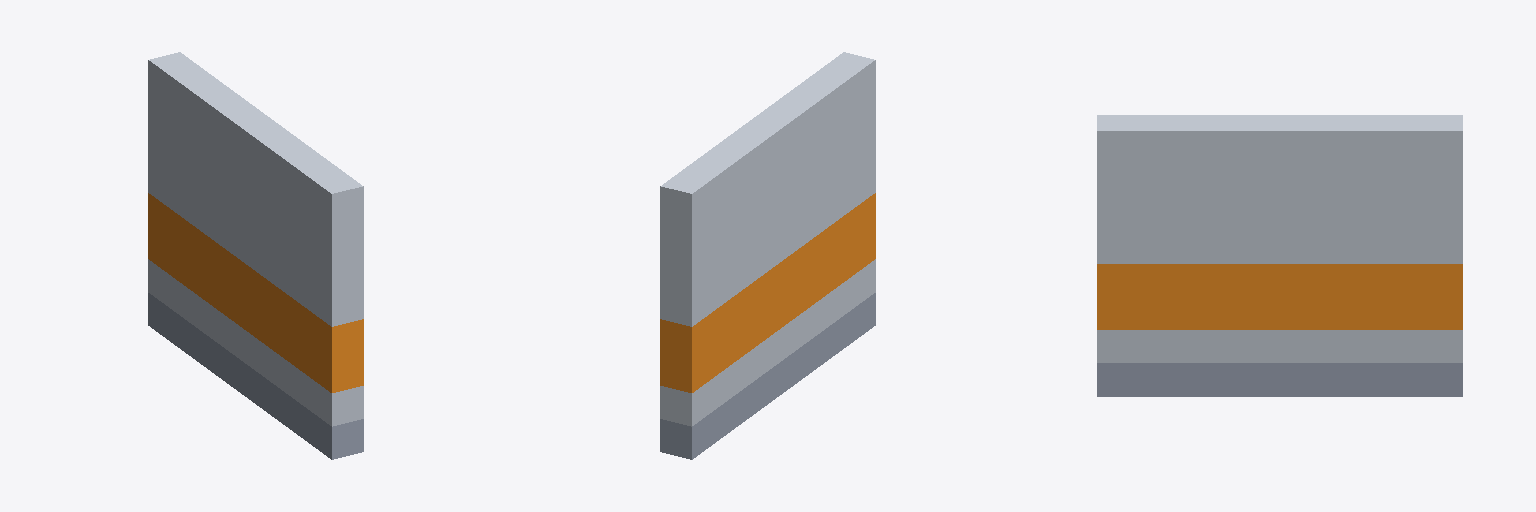
File: corridor_wall.obj
3 views of the same model, side by side, from view 1: azimuth 30°, elevation 25°; view 2: azimuth 150°, elevation 25°; view 3: azimuth 270°, elevation 25° (orthographic).
Parts seen in each view (by area): view 1: corridor_wall; view 2: corridor_wall; view 3: corridor_wall.
Part boxes in pixels (left/top/right/bottom): corridor_wall: left=148, top=52, right=363, bottom=459; corridor_wall: left=660, top=52, right=875, bottom=459; corridor_wall: left=1097, top=115, right=1462, bottom=396.
Size of the model in its own units: 0.1 by 0.8 by 1.